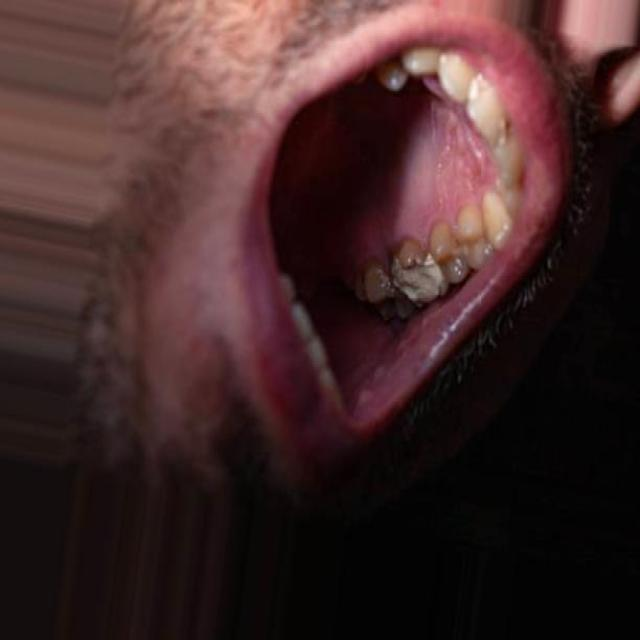caries: (395, 248, 443, 300)
